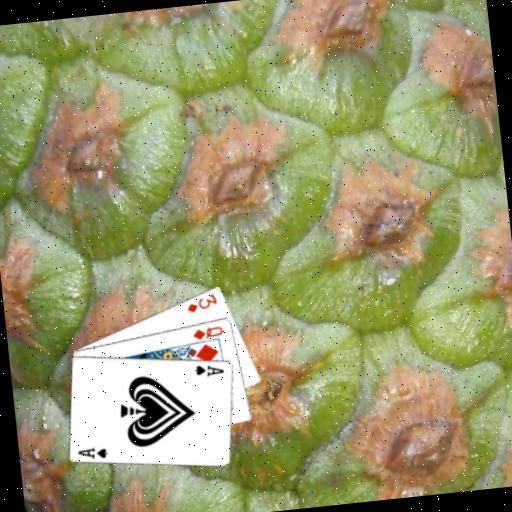3D: (183, 290, 220, 315)
AS: (74, 442, 110, 462), (192, 359, 227, 379)
QD: (189, 323, 226, 343)
